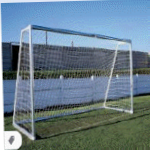goals: (11, 23, 136, 137)
